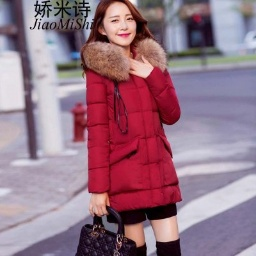face: (82, 1, 155, 50)
